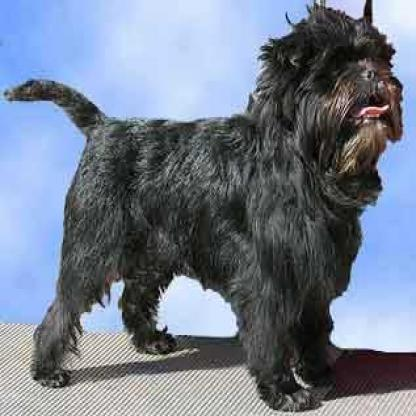affenpinscher: (1, 1, 402, 408)
